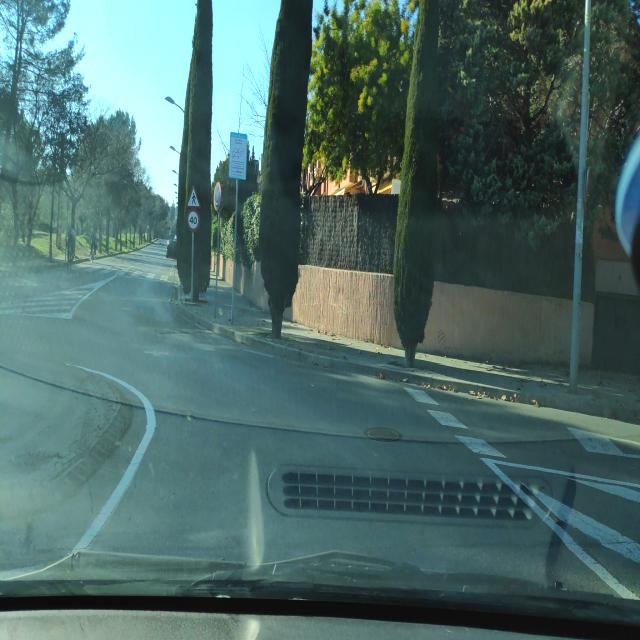car: (166, 233, 177, 258)
